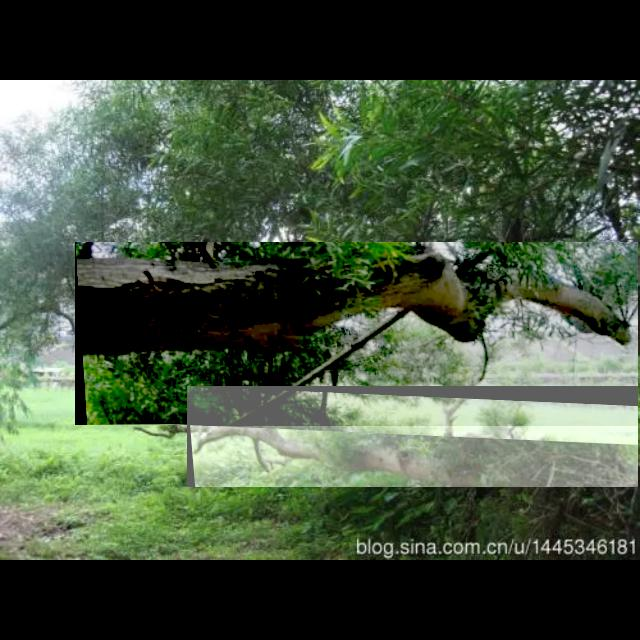Fallen Tree: (75, 242, 639, 426), (187, 386, 639, 488)
